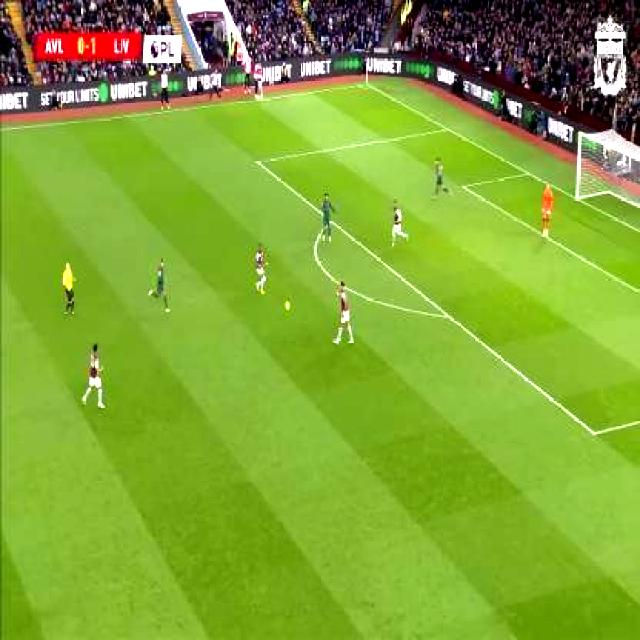bigarea_bottom_inner: (585, 420, 606, 448)
bigarea_top_inner: (250, 150, 268, 176)
bigarea_top_outter: (441, 123, 454, 135)
bottom_arc_area_intersection: (440, 302, 458, 331)
corner: (360, 82, 372, 90)
smallarea_top_inner: (458, 177, 469, 197)
smallarea_top_outter: (523, 165, 534, 183)
